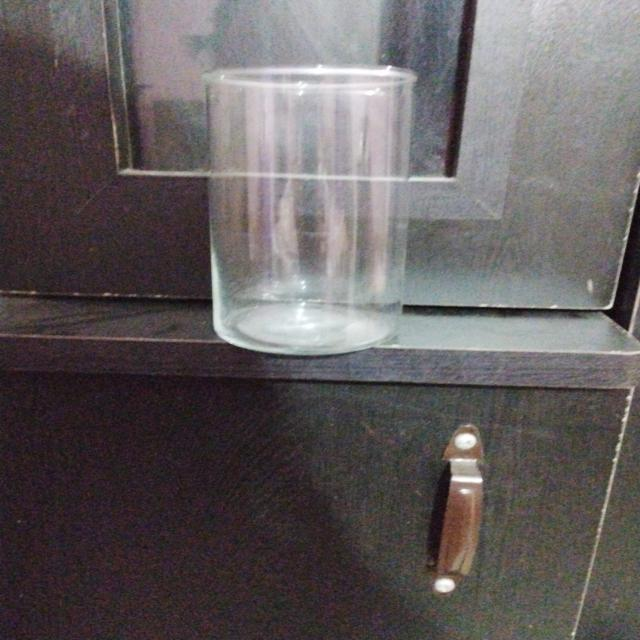Glass: (198, 63, 419, 359)
